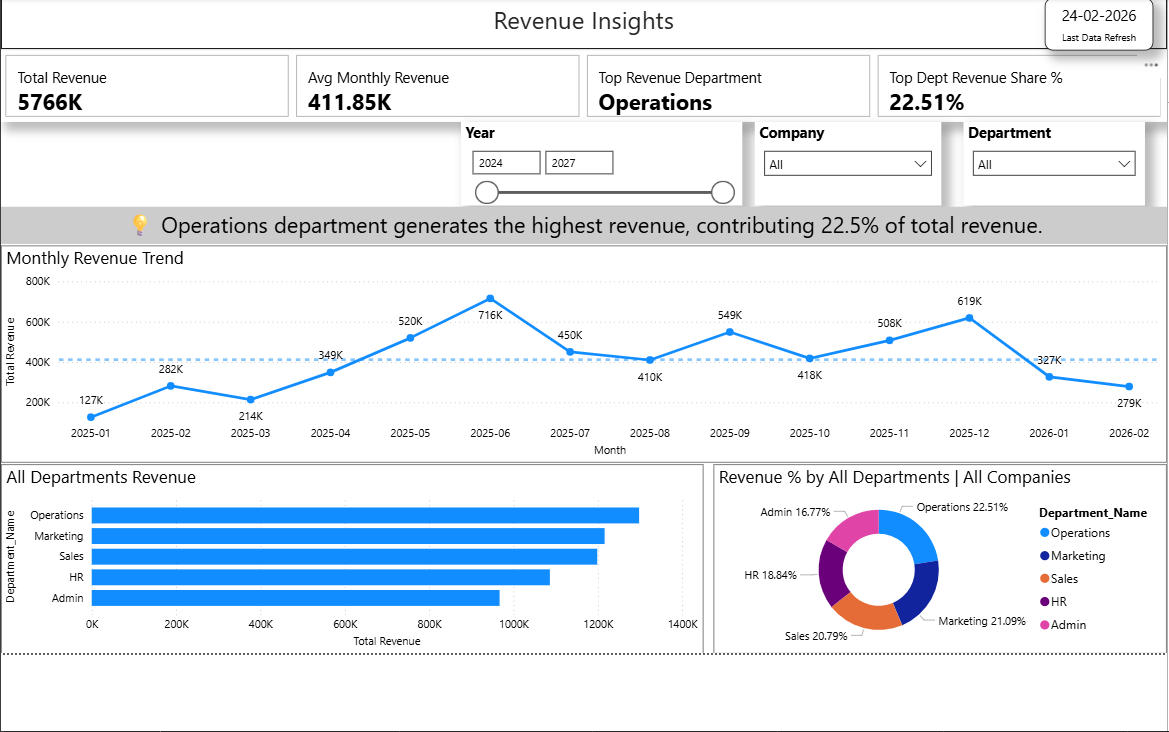

Layout of this report page (visuals, bound fields, positions):
{"tool":"powerbi","page":{"name":"Revenue Insights","canvas":[1280,720],"ordinal":3},"visuals":[{"type":"cardVisual","fields":{"Data":["Measure.Total Revenue","Measure.Avg Monthly Revenue","Measure.Top Revenue Department","Measure.Top Dept Revenue Share %"]},"box":[0,57.6,1280.3,78.2],"z":0},{"type":"textbox","box":[0,0,1280,56],"z":1000},{"type":"donutChart","fields":{"Category":["Dim_Department.Department_Name"],"Y":["Measure.Revenue Share %"]},"box":[782.5,512.5,497.6,207.7],"z":2000},{"type":"lineChart","title":"Monthly Revenue Trend","fields":{"Category":["Dim_Date.YearMonth"],"Y":["Measure.Total Revenue"]},"box":[0,271.7,1280,238.8],"z":3000},{"type":"card","fields":{"Values":["Measure.Last Data Refresh"]},"box":[1145.7,0,119.4,57.2],"z":4000},{"type":"clusteredBarChart","fields":{"Y":["Measure.Total Revenue"],"Category":["Dim_Department.Department_Name"]},"box":[0,511.8,771.2,208.6],"z":5000},{"type":"slicer","title":"Year","fields":{"Values":["Dim_Date.Year"]},"box":[505,135.8,308.7,91.9],"z":6000},{"type":"slicer","title":"Company","fields":{"Values":["Dim_Company.Company_Name"]},"box":[827.4,135.8,204.5,91.9],"z":7000},{"type":"slicer","title":"Department","fields":{"Values":["Dim_Department.Department_Name"]},"box":[1056.6,135.8,199,91.9],"z":8000},{"type":"card","fields":{"Values":["Measure.Revenue Insight"]},"box":[0,229.2,1280,41.2],"z":9000}]}

Visuals, with their boxes on the page's 1280x720 design canvas (x1, y1, x2, y2). These are canvas units, not pixel positions in the 1169x732 screenshot, which may show the page scaled, cropped or inside an application window:
cardVisual - Measure.Total Revenue x Measure.Avg Monthly Revenue: bbox=[0, 58, 1280, 136]
textbox: bbox=[0, 0, 1280, 56]
donutChart - Dim_Department.Department_Name x Measure.Revenue Share %: bbox=[782, 512, 1280, 720]
"Monthly Revenue Trend" lineChart: bbox=[0, 272, 1280, 510]
card - Measure.Last Data Refresh: bbox=[1146, 0, 1265, 57]
clusteredBarChart - Measure.Total Revenue x Dim_Department.Department_Name: bbox=[0, 512, 771, 720]
"Year" slicer: bbox=[505, 136, 814, 228]
"Company" slicer: bbox=[827, 136, 1032, 228]
"Department" slicer: bbox=[1057, 136, 1256, 228]
card - Measure.Revenue Insight: bbox=[0, 229, 1280, 270]
